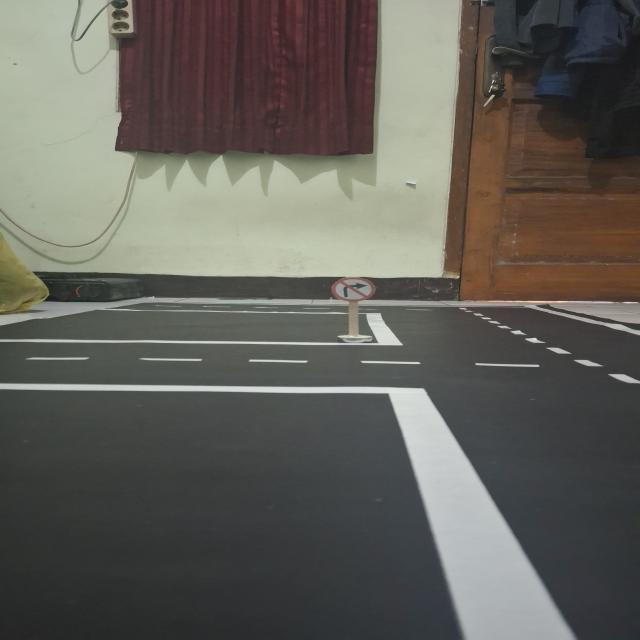Dilarang Belok Kanan: (331, 277, 376, 301)
